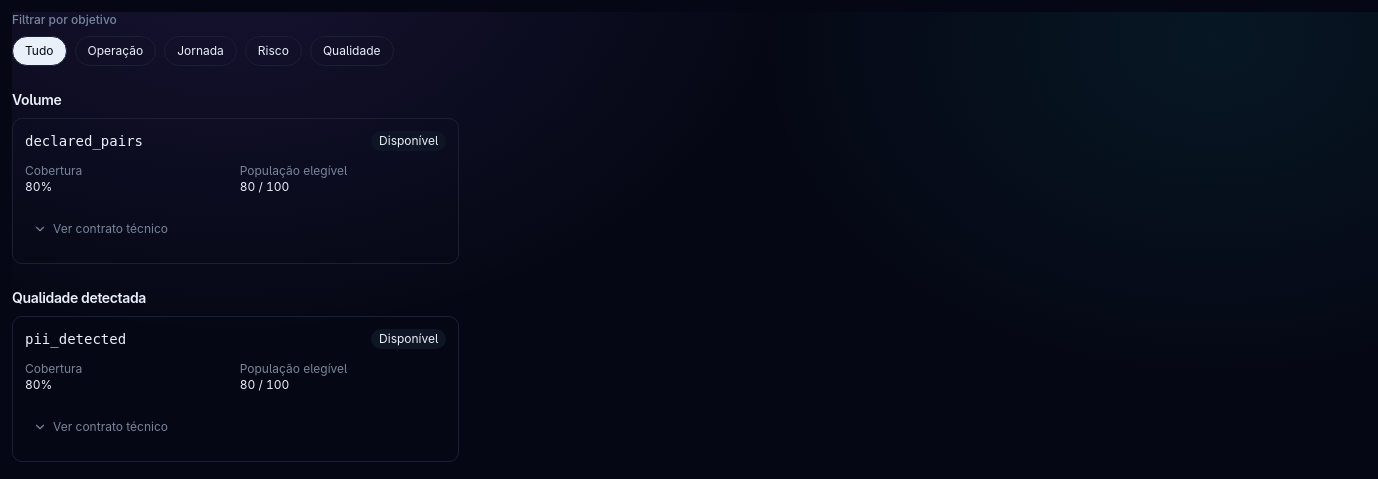
Test: catálogo público de medidas › filtra o objetivo somente pelo grupo publicado, sem persistência paralela
What coordinates should you click on to do the following:
click the button "Risco"
I would click on:
 (273, 51)
Its box is 245,36 -> 302,66.
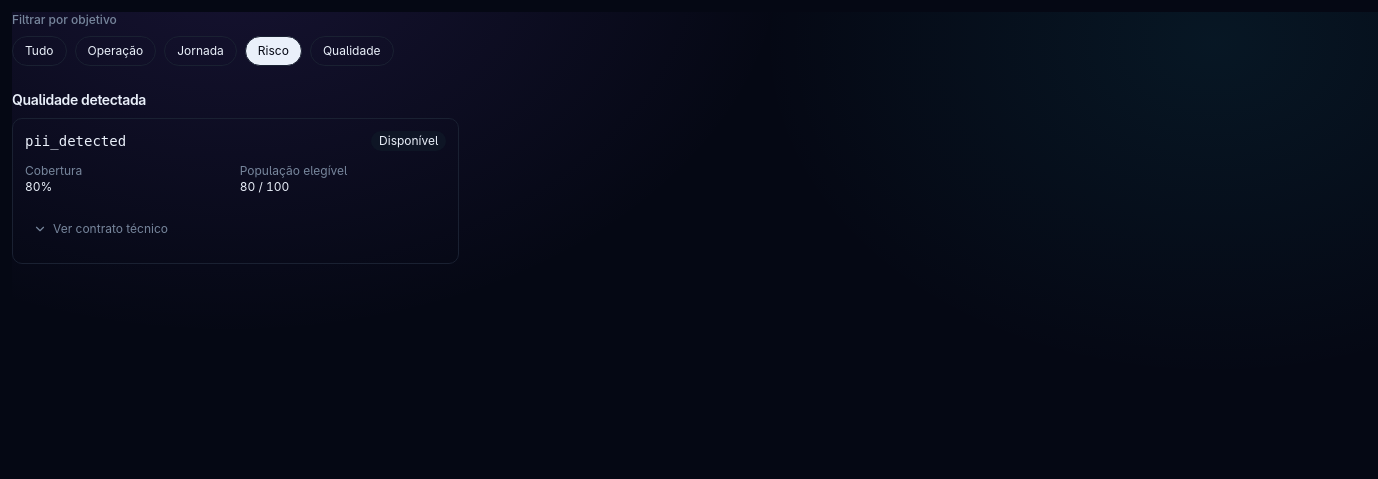
Expected: the text "pii_detected" is shown, 25,131 -> 126,151
Expected: the text "declared_pairs" is gone
